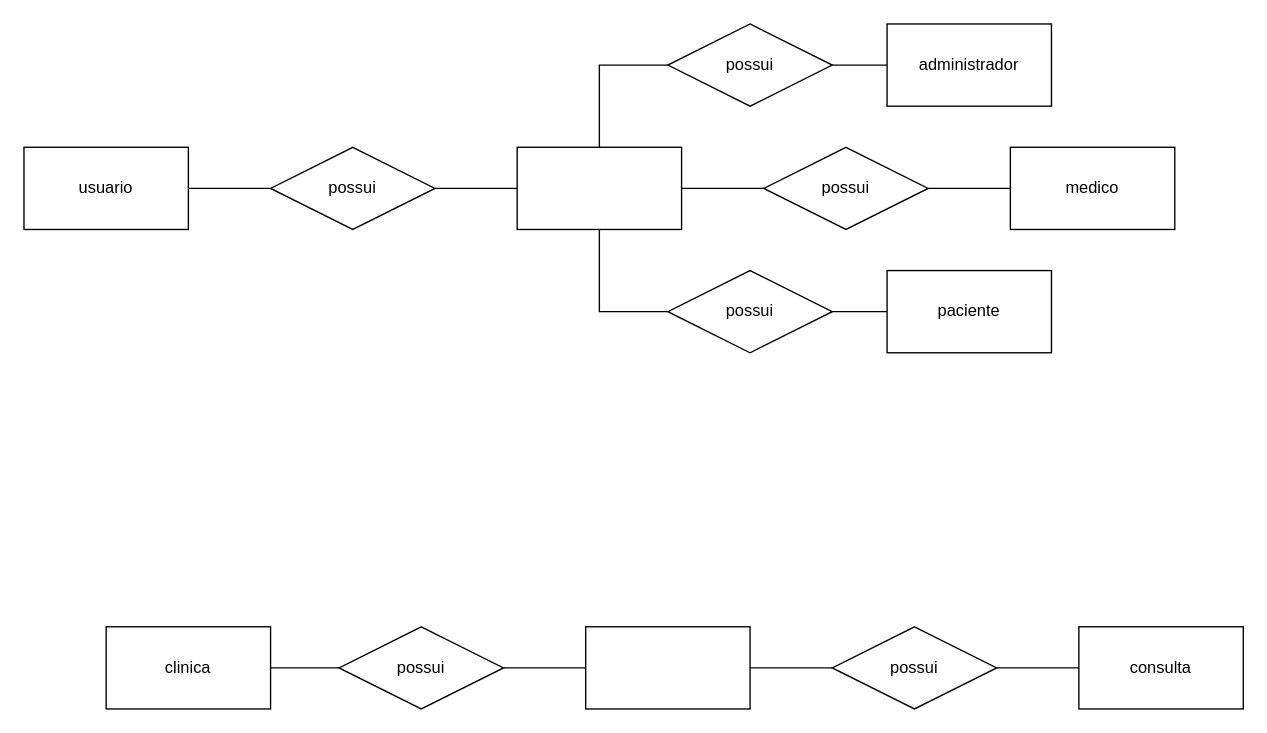
Some shapes in this 1267 by 733 pixel diagram are drawn without their labels. Each missing label, with the box of its shape:
cliente: (584, 625, 750, 709)
permissao: (516, 146, 682, 229)
